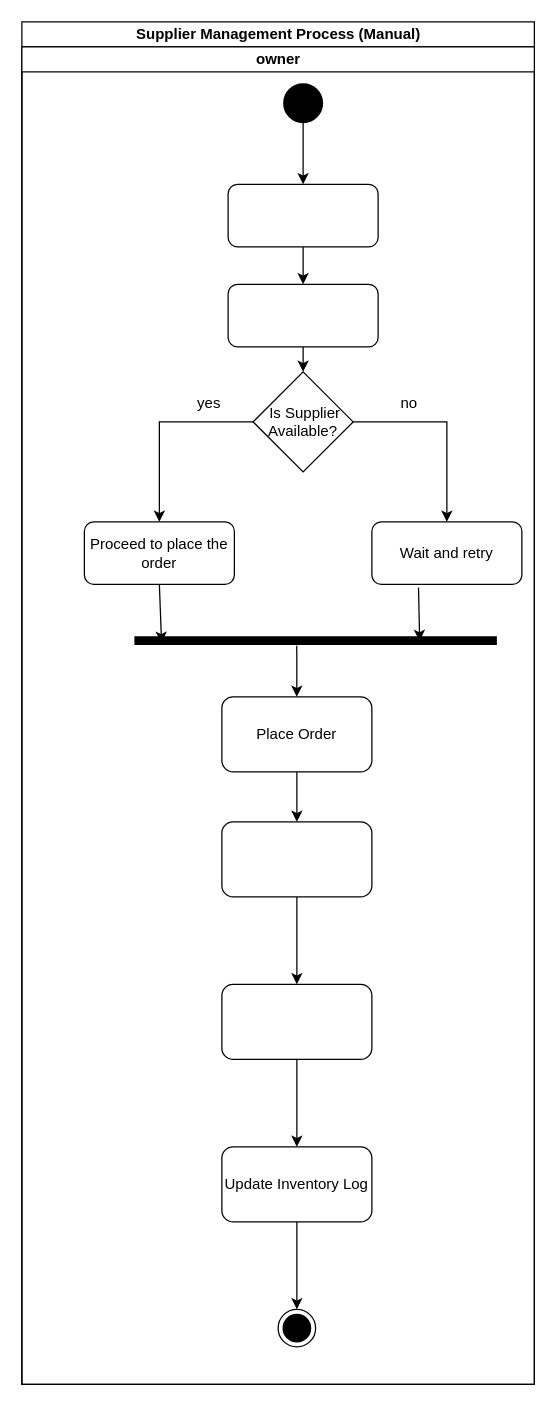
Image size: 556x1406. Some labels were removed from this diagram. Here are the shapes that lost their labels. From the top down, the centre of each, then its label:
At (302,215): "Initiates Supplier Order".
At (302,315): "Identify Required Items".
At (296,859): "Track Delivery".
At (296,1021): "Receive items".
